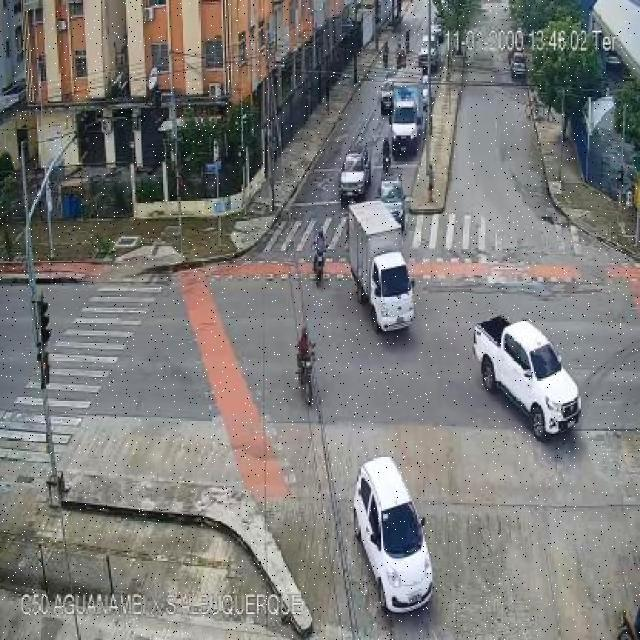Car: (464, 316, 595, 448), (336, 150, 371, 196)
Cycle: (346, 200, 418, 337), (289, 328, 332, 426), (312, 228, 328, 284)
Truck: (388, 70, 430, 164)
Van: (342, 455, 446, 622)
